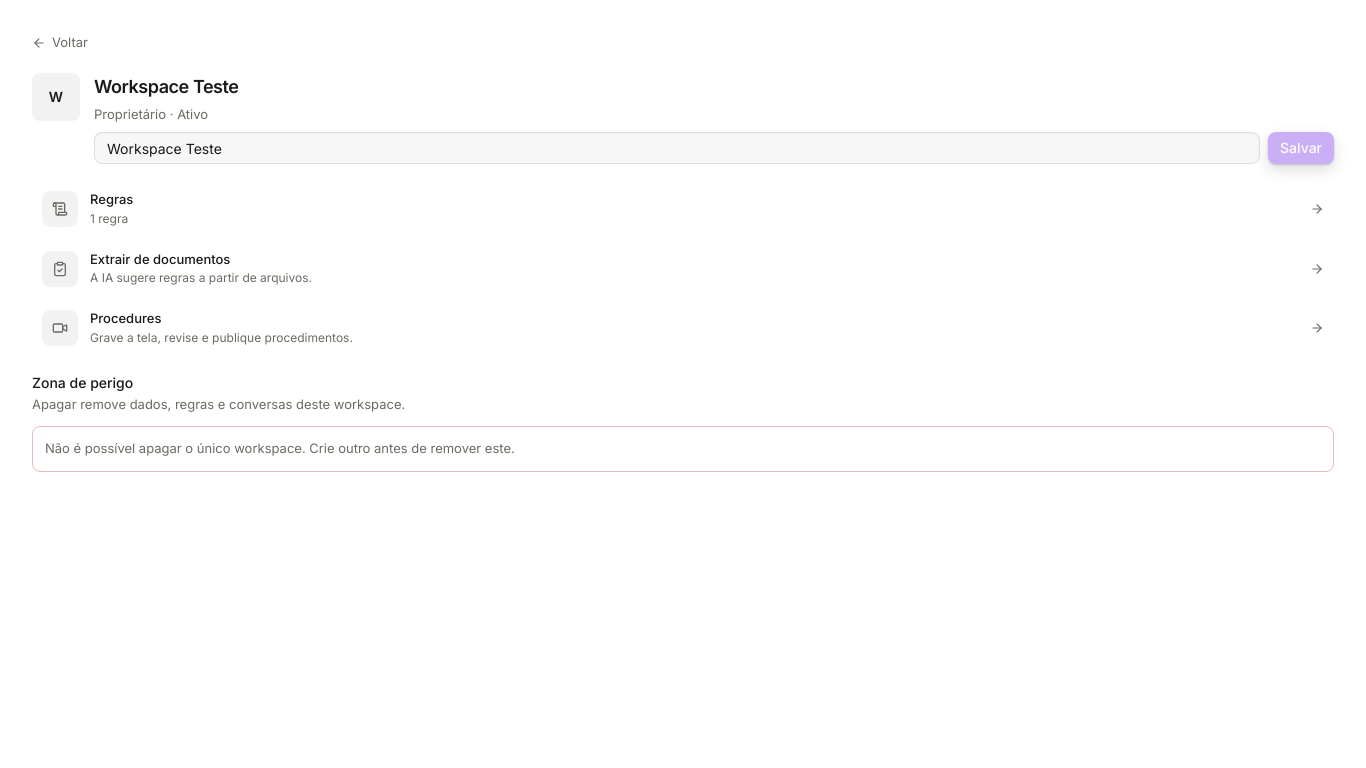
WorkspaceDetailPage rule review navigation › opens rules in a dialog and expands content on click
Expected: the text "1 regra" is shown, [90,211,128,226]
Expected: the text "Responda com calma." is not shown
Click the button with aria-label "Abrir regras" at (60, 209), box [32,180,1334,238]
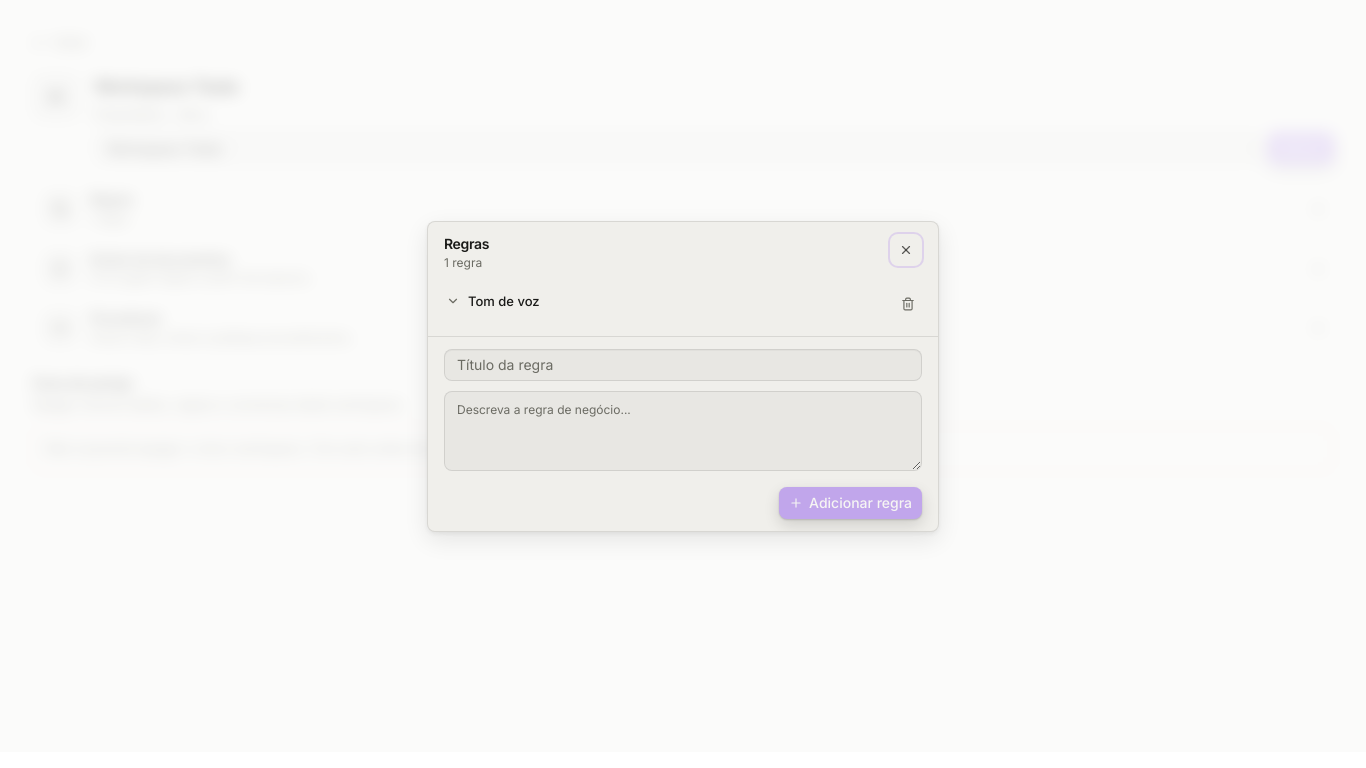
Expected: the text "Responda com calma." is not shown
Expected: the dialog "Regras" is shown, [427,220,939,532]
Expected: the text "Tom de voz" is shown, [468,292,540,308]
Click the button with aria-label "Ver regra Tom de voz" at (504, 300), box [446,292,888,311]
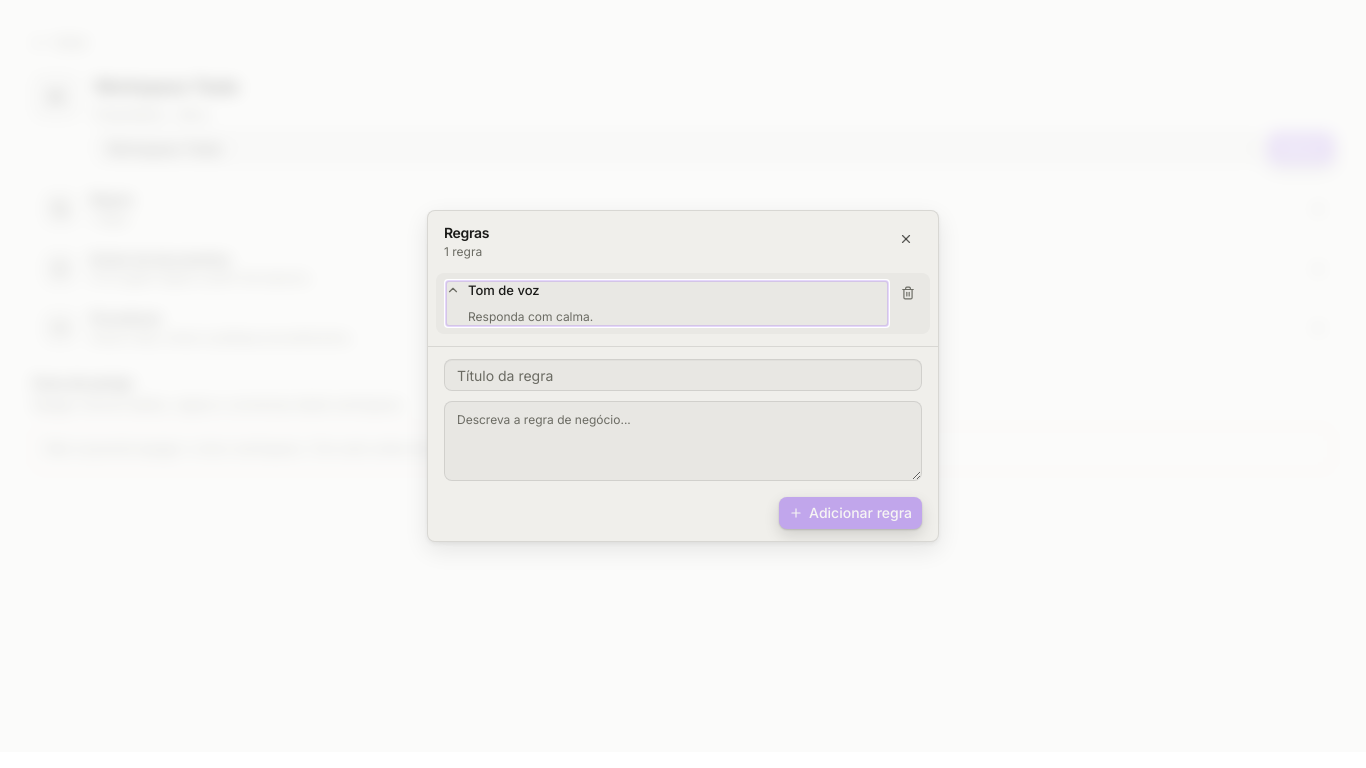
Expected: the text "Responda com calma." is shown, [468,308,593,324]
